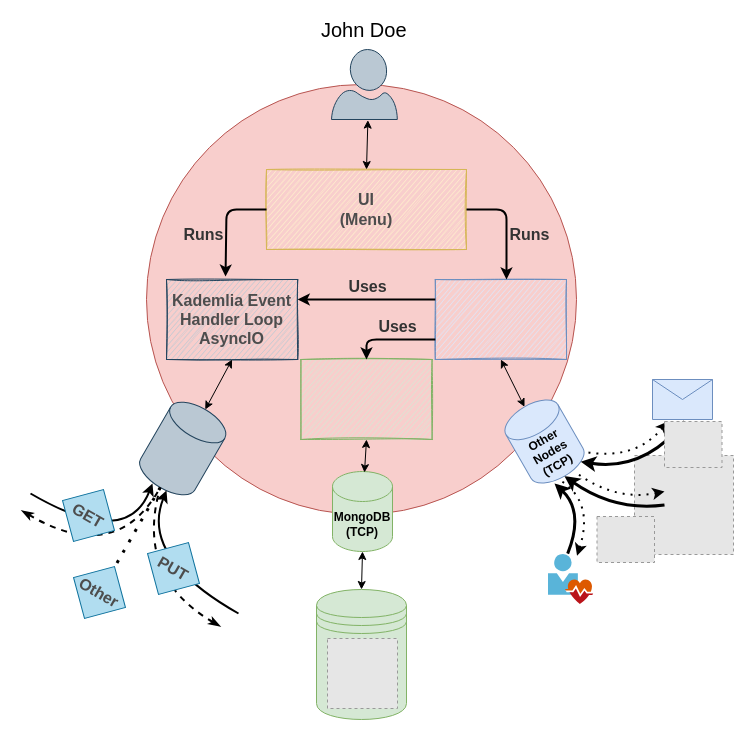
The diagram is 751 pixels wide and 737 high, and some of its shapes have lost their labels. Grey dashed boxes stand in for pictures. Here are the shapes that lost their labels. From the top down, the centre of each, then its label:
At [500,319]: "Messages Event Handler Loop AsyncIO".
At [366,399]: "Storage Controller".
At [182,448]: "Kademlia (UDP)".
